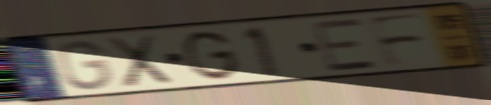1: (240, 24, 282, 78)
E: (310, 16, 382, 74)
F: (365, 11, 428, 70)
G: (182, 28, 242, 82), (55, 39, 115, 92)
X: (103, 32, 175, 90)
